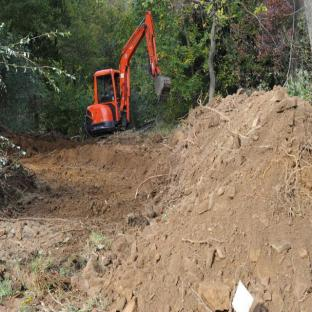ExcavationMachinery: (77, 5, 185, 140)
